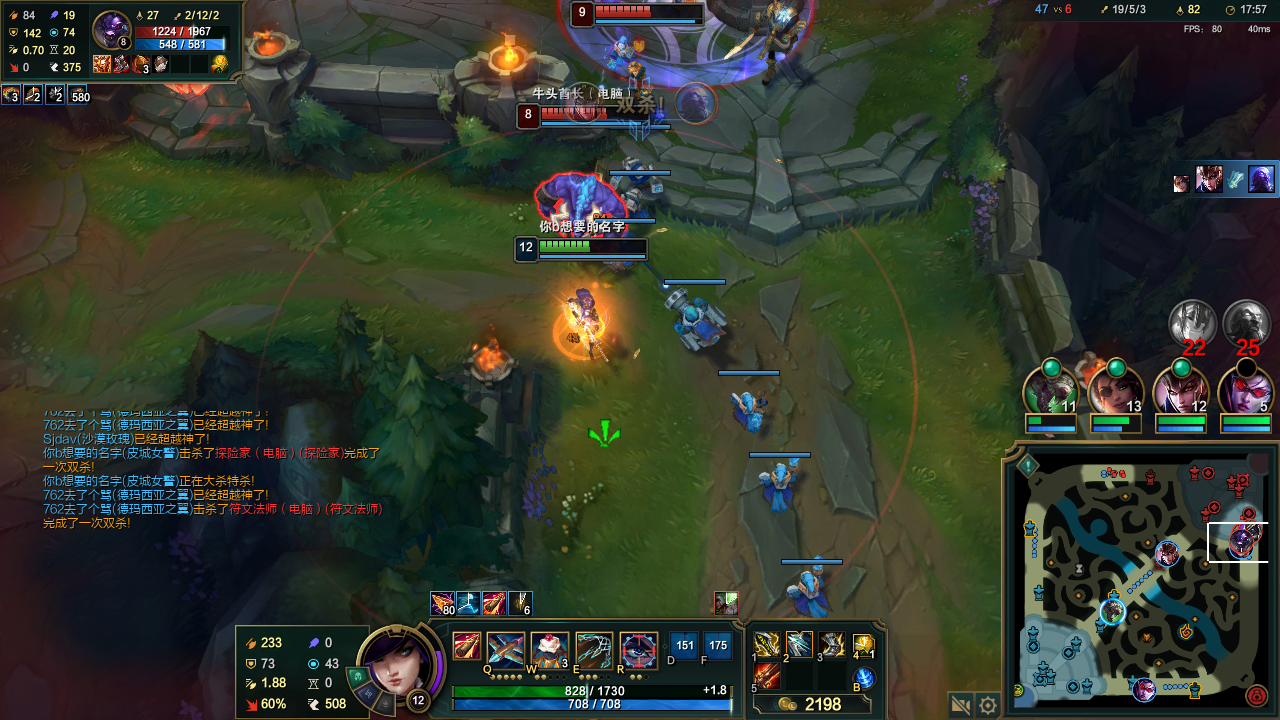DFYX: (594, 6, 689, 19), (540, 109, 639, 119)
WFXB: (667, 292, 740, 357), (719, 385, 771, 432), (617, 184, 655, 224), (790, 574, 832, 608), (759, 465, 796, 499), (625, 152, 653, 181), (605, 44, 636, 65)
